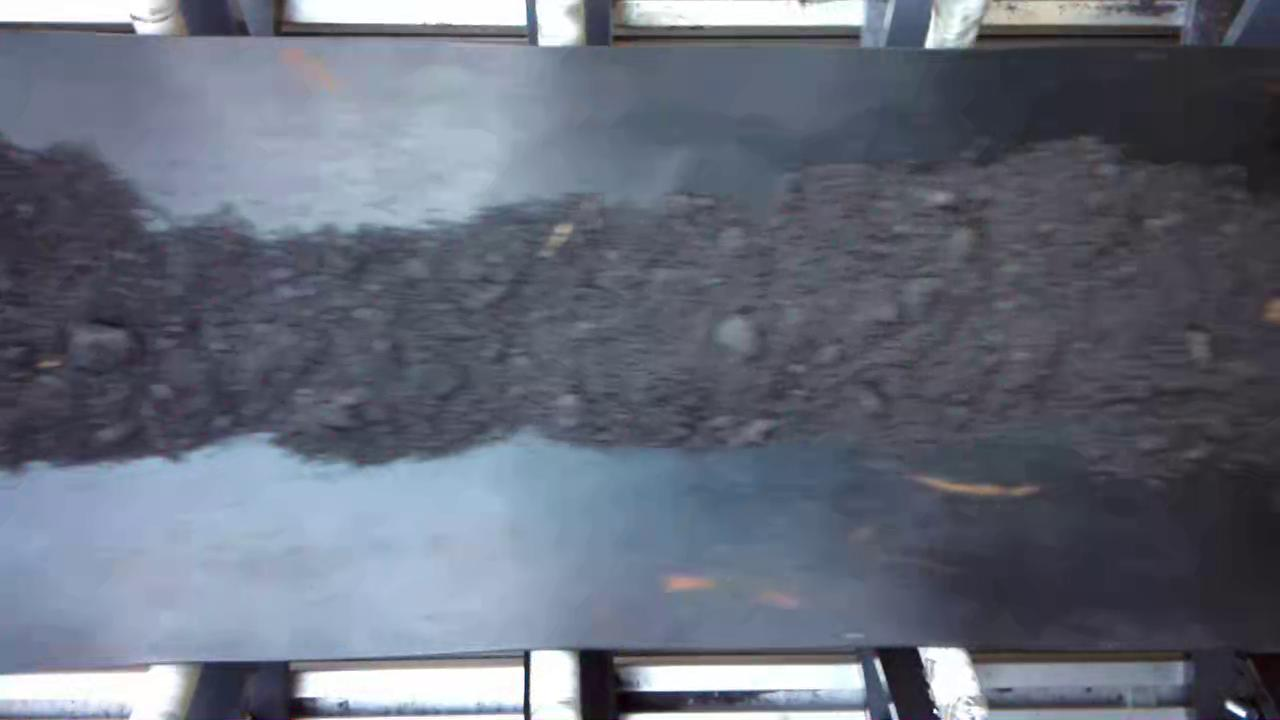conveyor: (4, 51, 1279, 637)
